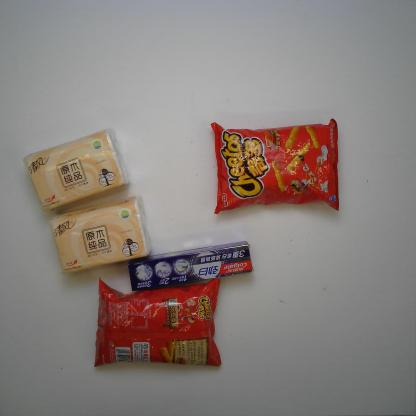Personal Hygiene: (127, 238, 256, 292)
Puffed Food: (210, 113, 342, 215), (90, 272, 224, 370)
Tissue: (21, 126, 133, 213), (47, 195, 152, 275)
